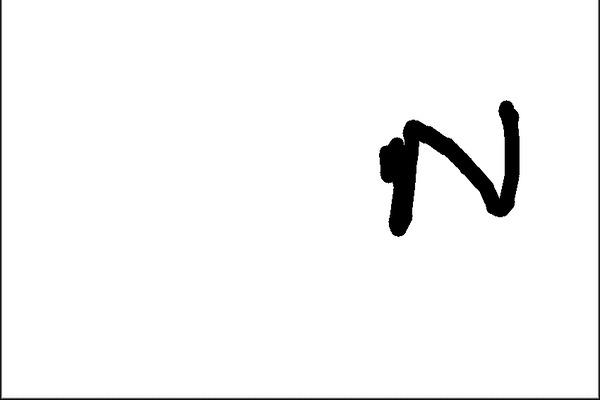N: (376, 95, 524, 245)
